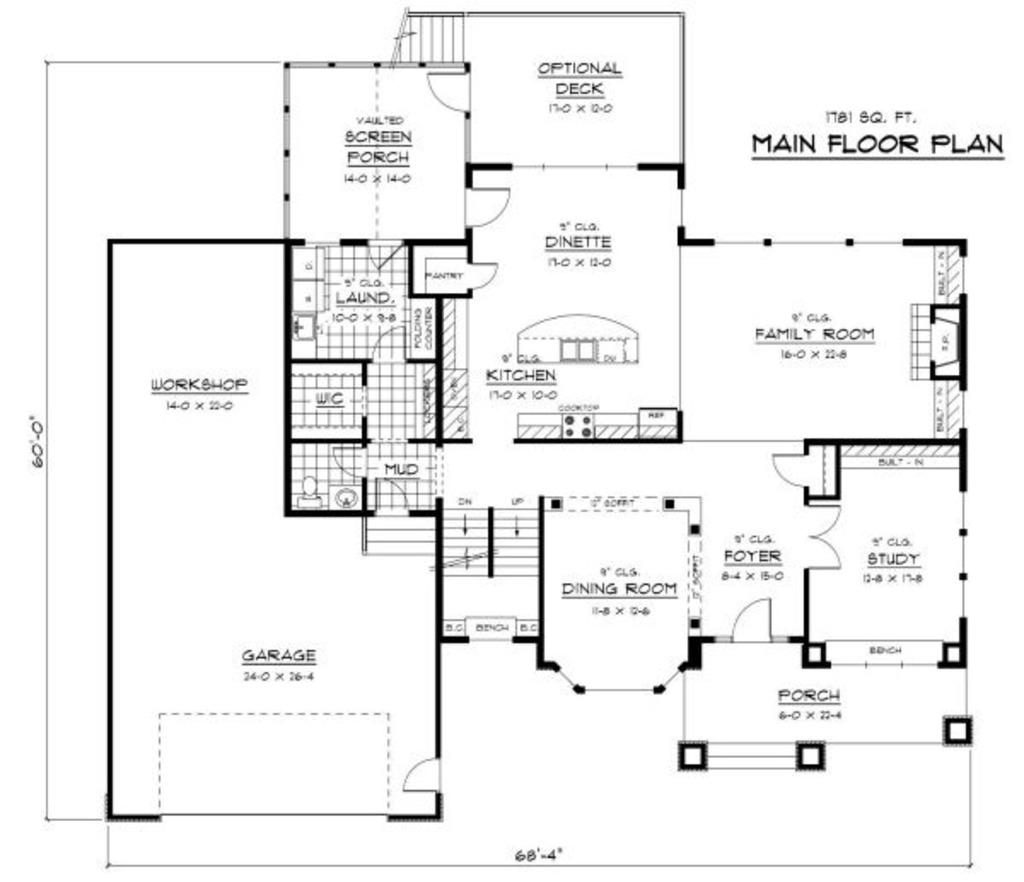door: (802, 497, 845, 577), (417, 68, 476, 119), (397, 752, 446, 804), (722, 598, 773, 644), (463, 184, 511, 230), (766, 452, 809, 488), (468, 255, 497, 296)
kitchen_bar: (513, 311, 641, 369)
large_sink: (294, 477, 329, 513)
stairs: (433, 492, 546, 648), (384, 6, 465, 73)
windows: (954, 486, 977, 619), (511, 152, 649, 174)
